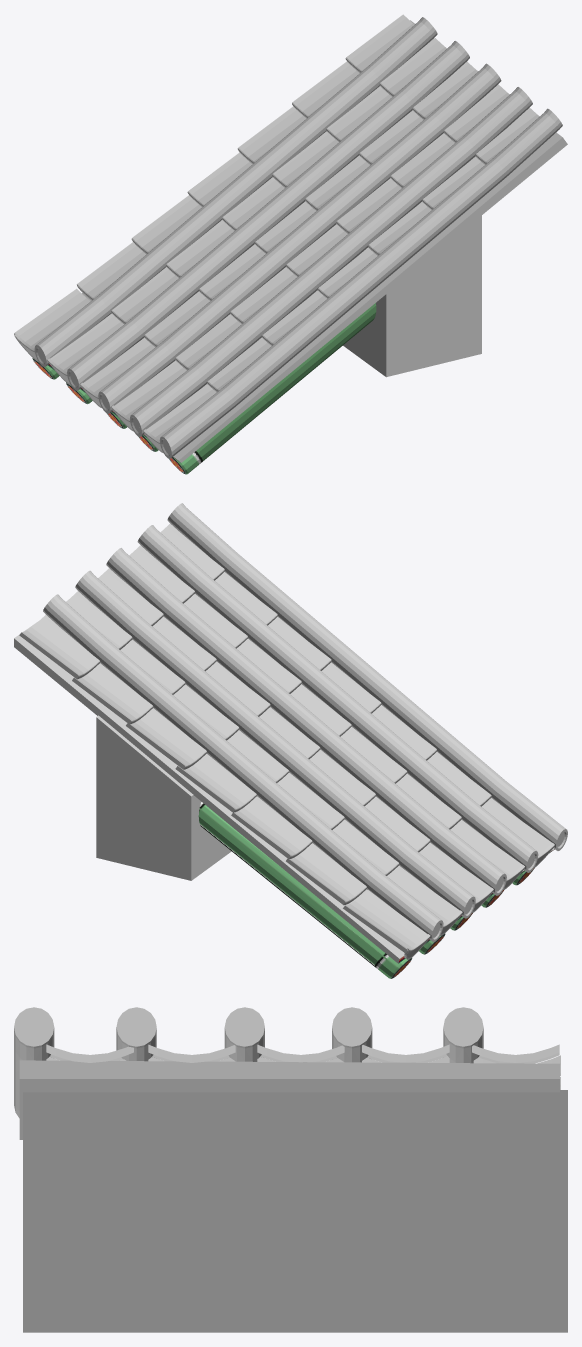
The model's file is SM_Roof_30.fbx.
The picture shows the model from 3 angles, top to bottom: view 1: azimuth 30°, elevation 25°; view 2: azimuth 150°, elevation 25°; view 3: azimuth 270°, elevation 25°; orthographic projection. The views are drawn at different scales.
Visible parts, largest first — view 1: SM_Roof_30_LOD0; view 2: SM_Roof_30_LOD0; view 3: SM_Roof_30_LOD0.
Boxes of the visible parts, bbox=[...] form: SM_Roof_30_LOD0: bbox=[14, 14, 567, 474]; SM_Roof_30_LOD0: bbox=[14, 503, 567, 978]; SM_Roof_30_LOD0: bbox=[14, 1007, 567, 1332].
Size of the model in its own units: 299 by 209 by 205.
